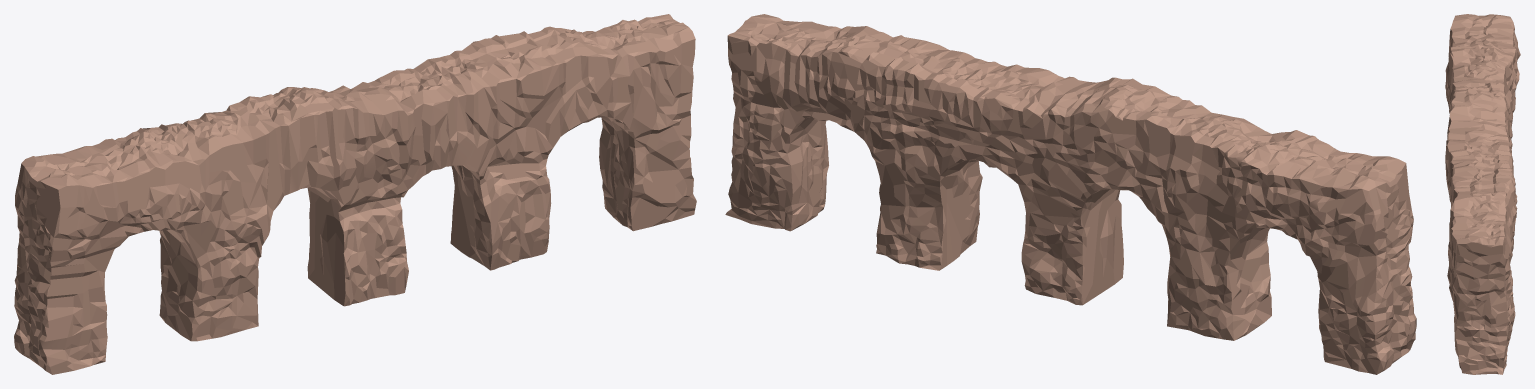
File: Archway.glb
3 renders of one model, left to right at view 1: azimuth 30°, elevation 25°; view 2: azimuth 150°, elevation 25°; view 3: azimuth 270°, elevation 25°, orthographic. The views are drawn at different scales.
Parts seen in each view (by area): view 1: Archway; view 2: Archway; view 3: Archway.
Part boxes in pixels (<box>): Archway: <box>14,14,696,374</box>; Archway: <box>725,14,1416,374</box>; Archway: <box>1445,14,1520,374</box>.
Size of the model in its own units: 3.66 by 1.09 by 0.5055.
